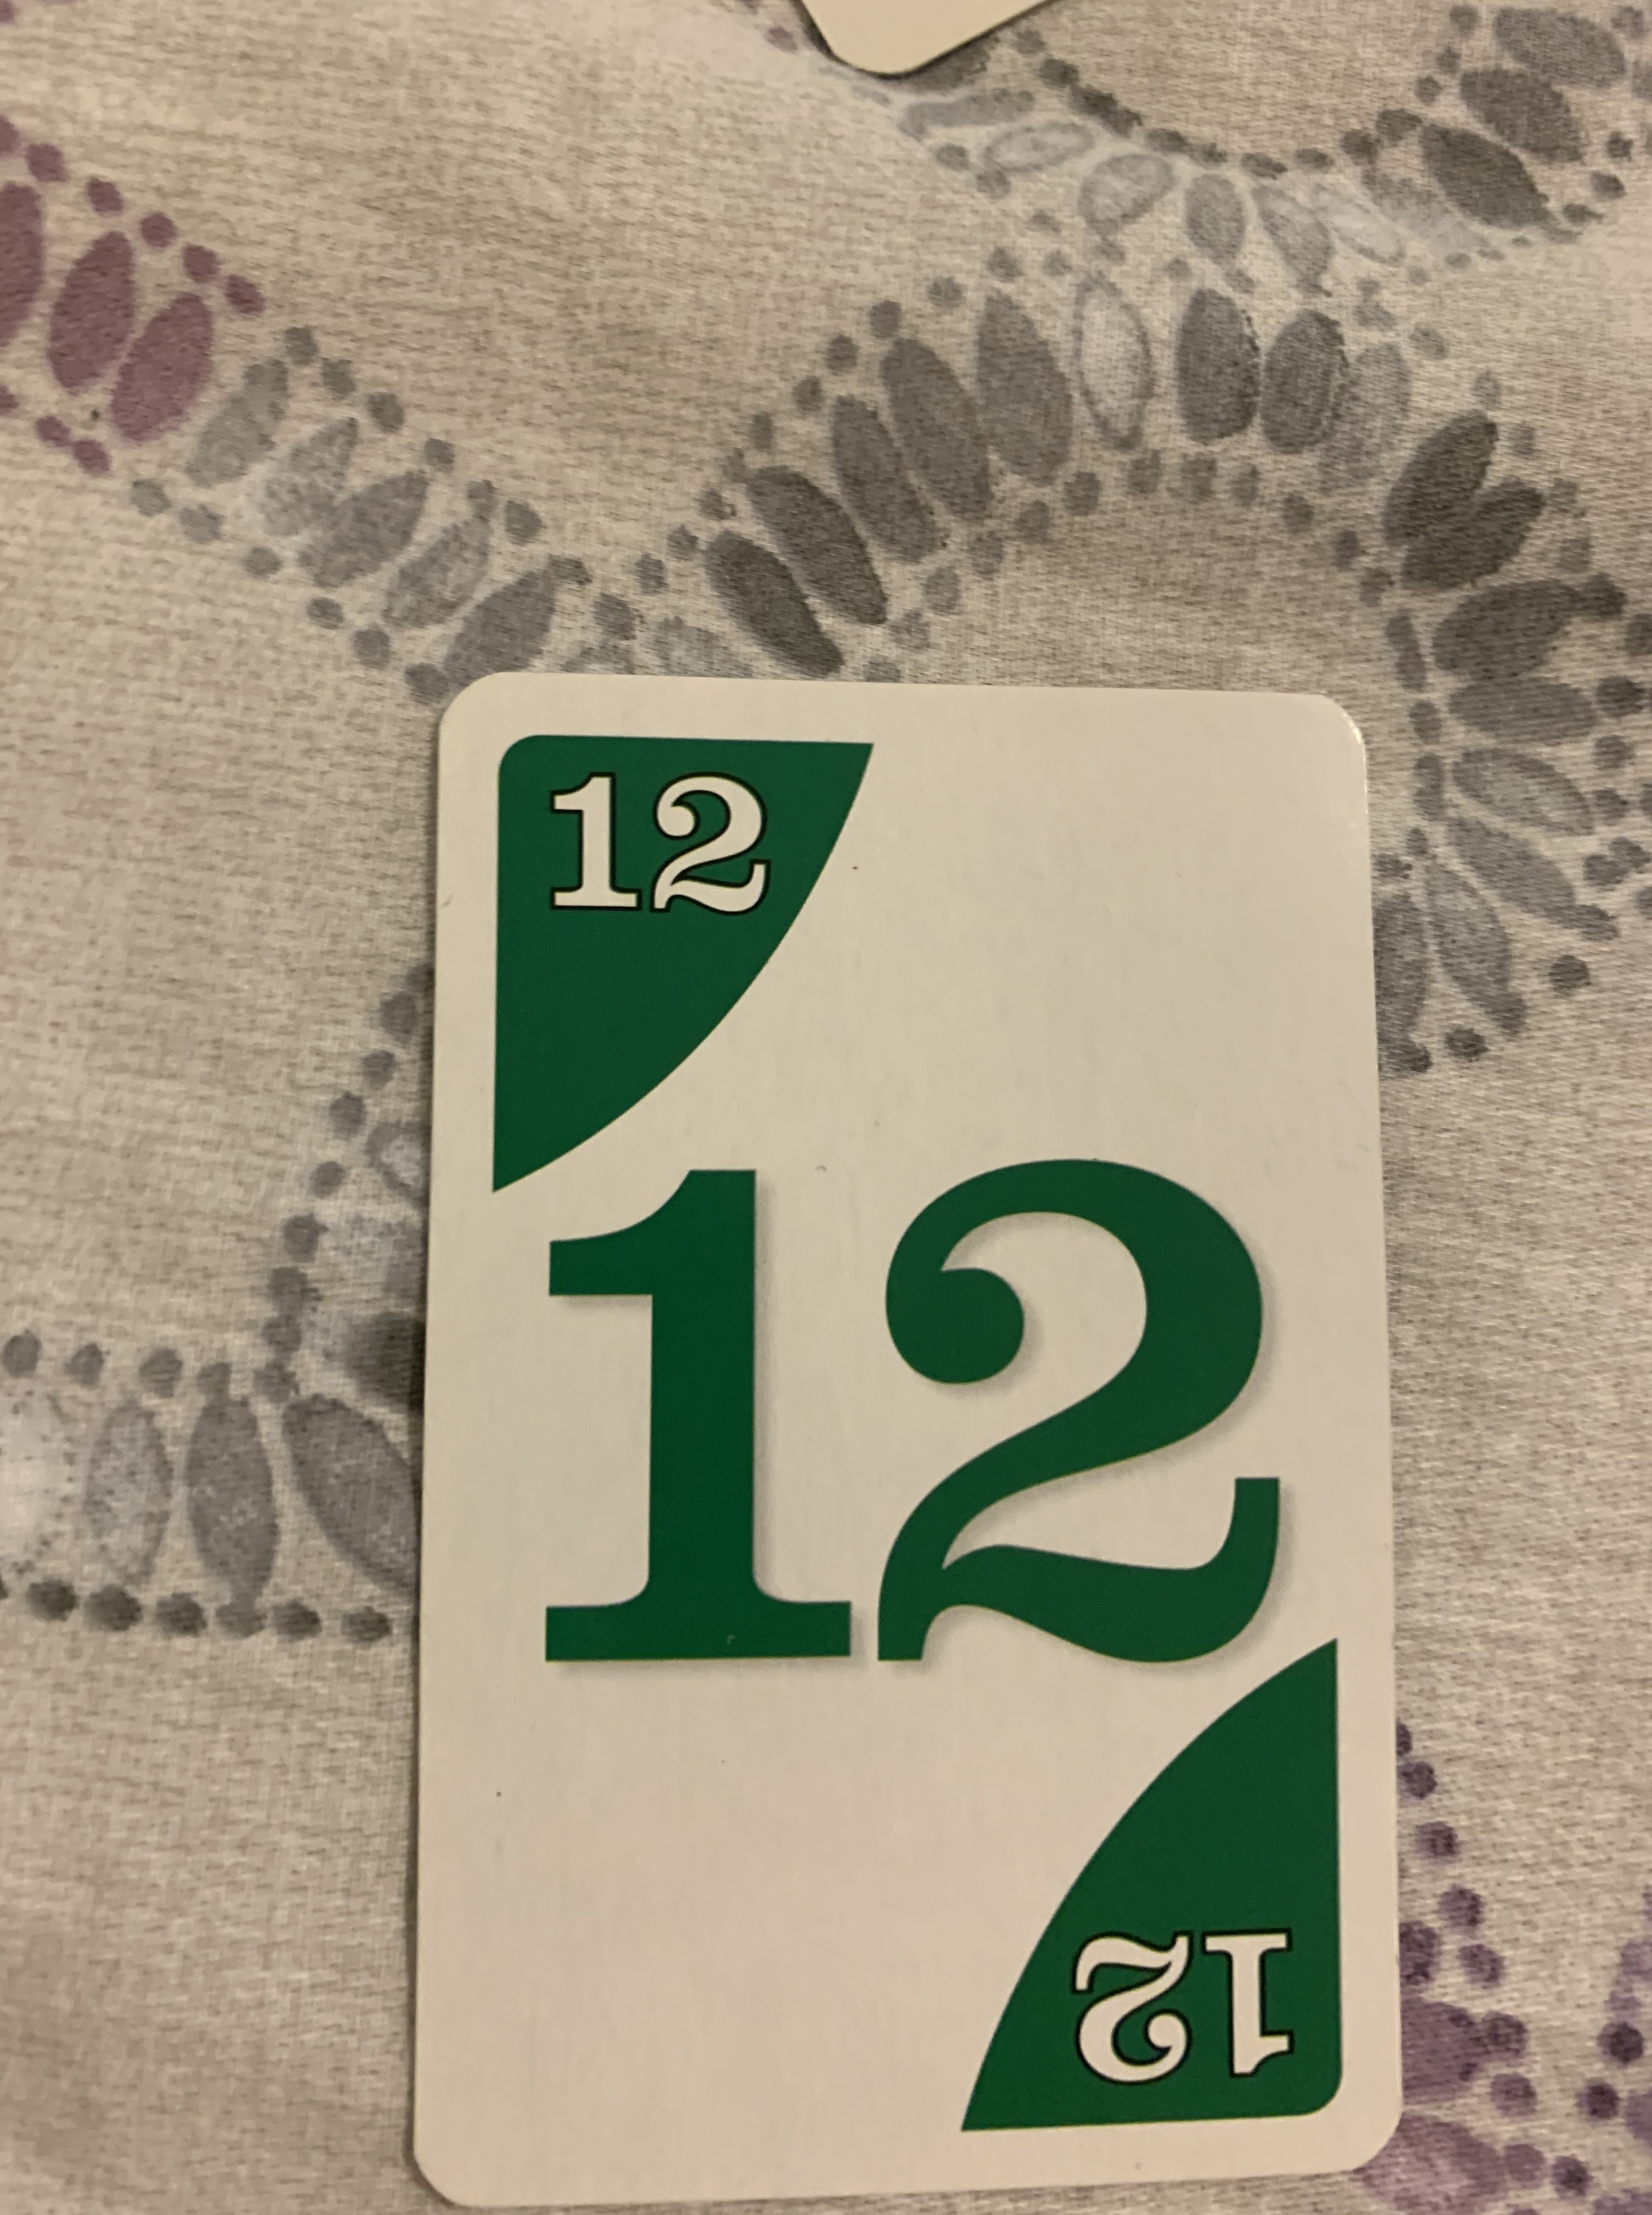twelve: (422, 661, 1397, 2215)
